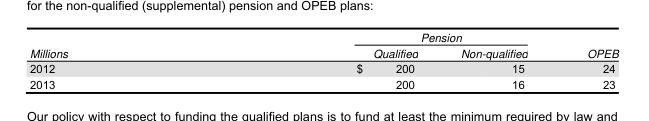table: (29, 29, 617, 89)
table column: (211, 29, 438, 89), (29, 29, 211, 89), (438, 29, 556, 89), (556, 29, 617, 89)
table column header: (29, 29, 617, 61)
table row: (29, 44, 617, 61), (29, 29, 617, 44), (29, 61, 617, 75), (29, 75, 617, 89)
table spanning cell: (29, 29, 211, 61), (211, 29, 556, 44), (556, 29, 617, 61)
